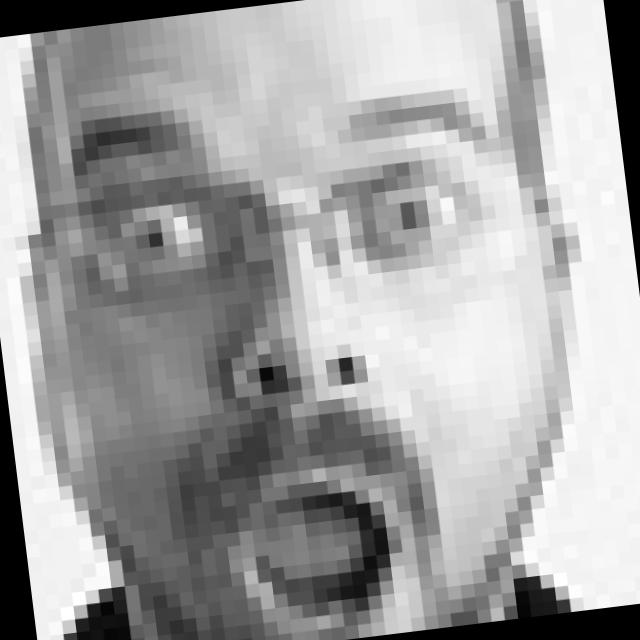surprise: (60, 54, 551, 640)
